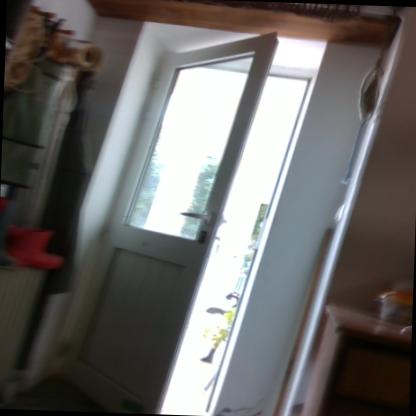semi: (86, 21, 325, 416)
